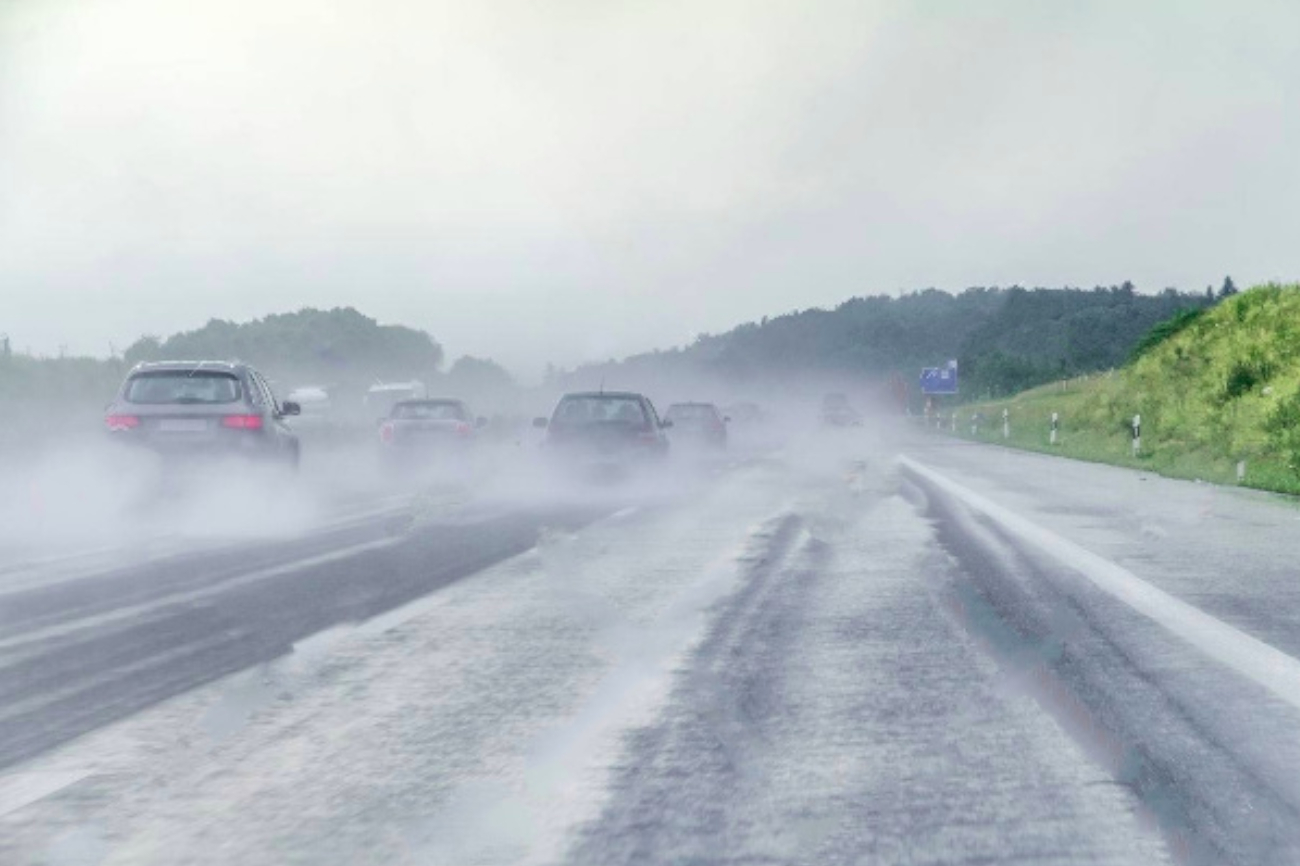car: (103, 361, 298, 487), (530, 392, 672, 476), (374, 399, 484, 472), (662, 395, 729, 449), (726, 401, 764, 427)
truck: (363, 385, 479, 416), (816, 387, 856, 433), (288, 387, 343, 416)
